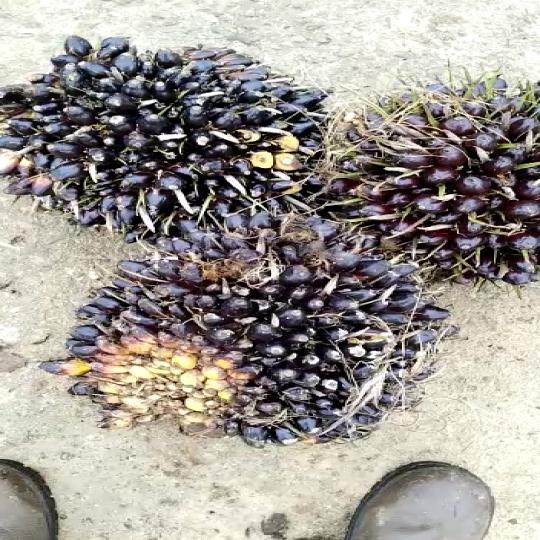mentah: (78, 239, 455, 451), (0, 22, 328, 238), (309, 75, 540, 302)
